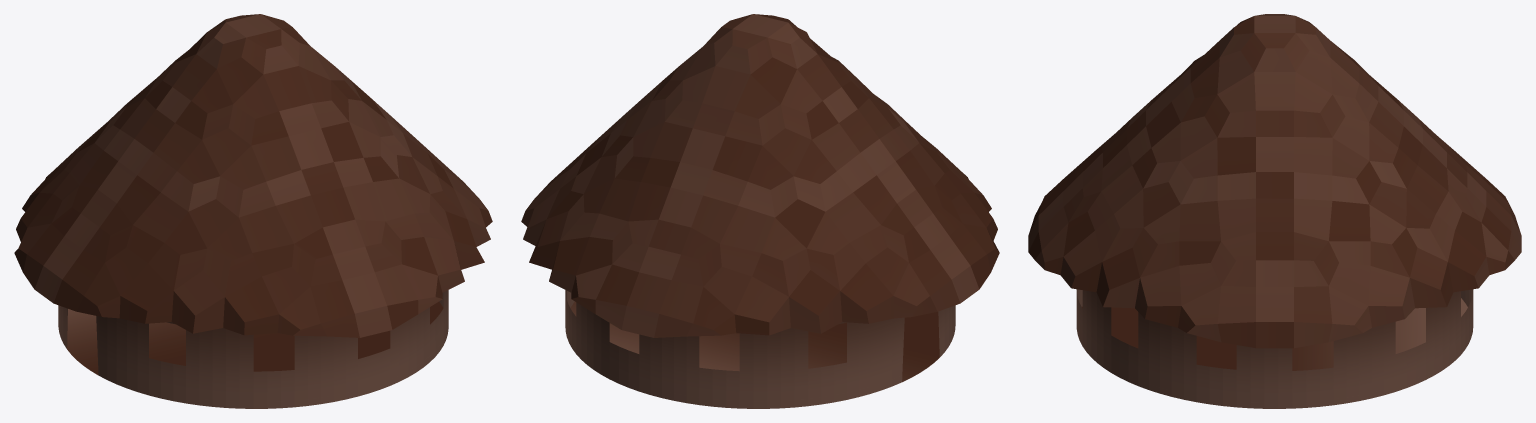
Rendered from ocas pequena3.fbx.
The picture shows the model from 3 angles, left to right: view 1: azimuth 30°, elevation 25°; view 2: azimuth 150°, elevation 25°; view 3: azimuth 270°, elevation 25°; orthographic projection.
Visible parts, largest first — view 1: Cone.006, Cylinder.005; view 2: Cone.006, Cylinder.005; view 3: Cone.006, Cylinder.005.
Boxes of the visible parts, x1,y1,x2,y2 form: Cone.006: (14,14,492,337); Cylinder.005: (58,290,448,408); Cone.006: (521,14,999,337); Cylinder.005: (565,290,955,408); Cone.006: (1028,14,1521,348); Cylinder.005: (1076,289,1473,408).
Size of the model in its own units: 283 by 193 by 287.
2 materials, 2 textured.
